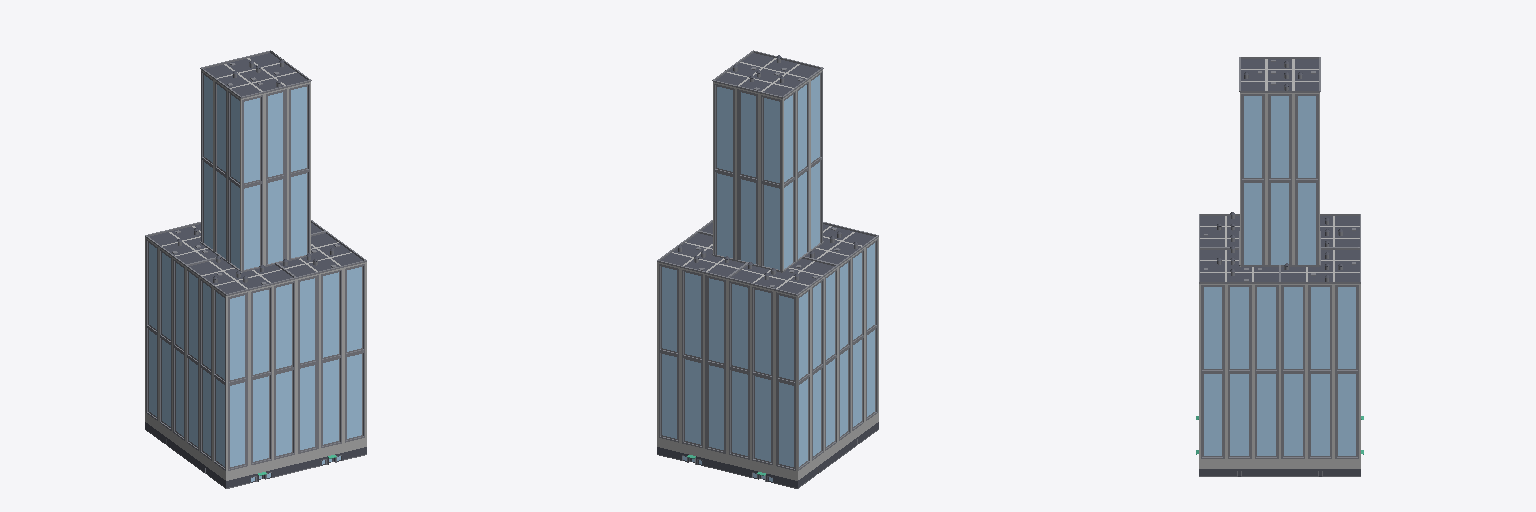
Rendered from skyscraper_d_fuckheug.obj.
3 views of the same model, side by side, from view 1: azimuth 30°, elevation 25°; view 2: azimuth 150°, elevation 25°; view 3: azimuth 270°, elevation 25° (orthographic).
Visible parts, largest first — view 1: skyscraperD.007, skyscraperD.008, skyscraperD.014, skyscraperD.006, skyscraperD.013, skyscraperD.012; view 2: skyscraperD.006, skyscraperD.005, skyscraperD.014, skyscraperD.007, skyscraperD.013, skyscraperD.012; view 3: skyscraperD.005, skyscraperD.008, skyscraperD.014, skyscraperD.013, skyscraperD.012, skyscraperD.007, skyscraperD.006.
Part boxes in pixels (bbox=[...]): skyscraperD.007: bbox=[185, 256, 296, 488]; skyscraperD.008: bbox=[275, 231, 366, 471]; skyscraperD.014: bbox=[201, 71, 310, 186]; skyscraperD.006: bbox=[145, 222, 216, 458]; skyscraperD.013: bbox=[201, 158, 310, 272]; skyscraperD.012: bbox=[200, 50, 311, 99]; skyscraperD.006: bbox=[727, 256, 838, 488]; skyscraperD.005: bbox=[657, 231, 745, 471]; skyscraperD.014: bbox=[713, 71, 822, 186]; skyscraperD.007: bbox=[803, 222, 878, 458]; skyscraperD.013: bbox=[713, 158, 822, 272]; skyscraperD.012: bbox=[712, 50, 823, 99]; skyscraperD.005: bbox=[1280, 248, 1363, 476]; skyscraperD.008: bbox=[1196, 246, 1279, 476]; skyscraperD.014: bbox=[1240, 94, 1319, 180]; skyscraperD.013: bbox=[1240, 181, 1319, 266]; skyscraperD.012: bbox=[1239, 57, 1320, 93]; skyscraperD.007: bbox=[1196, 212, 1239, 419]; skyscraperD.006: bbox=[1320, 214, 1363, 419].
Bounding box in the file's own units: 14.48 × 36.61 × 14.99.